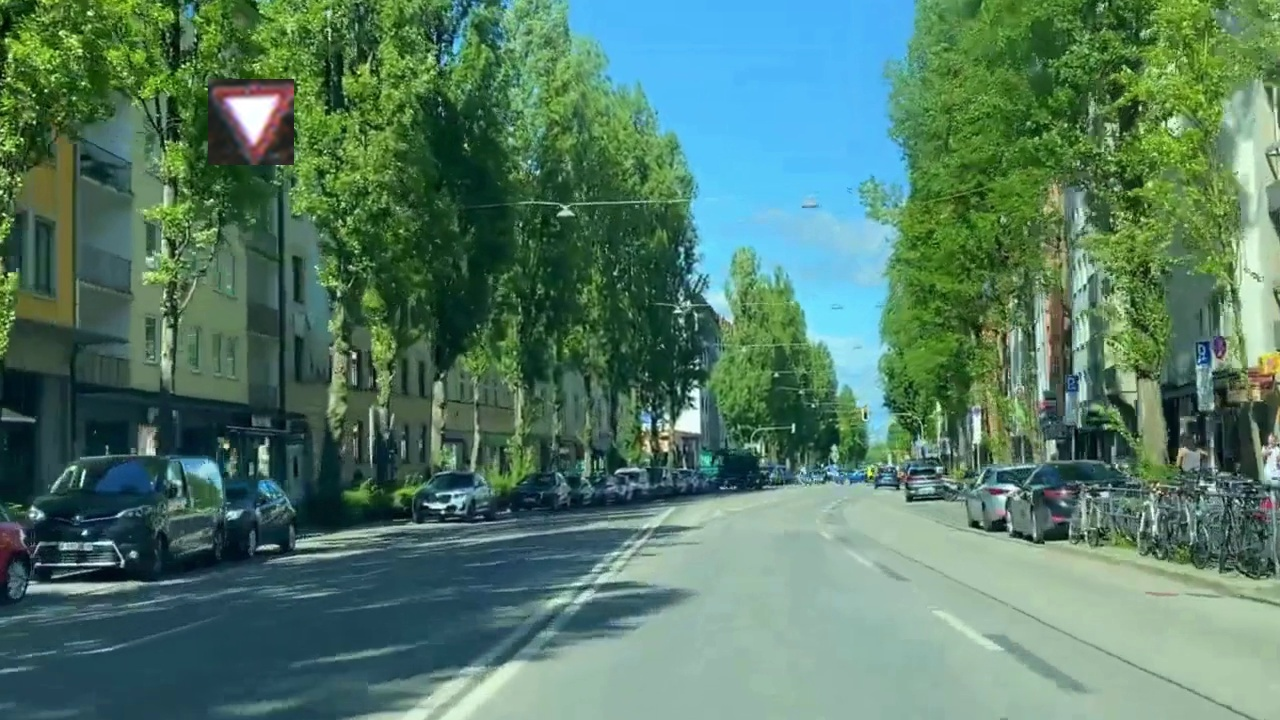Yield: (208, 79, 294, 165)
